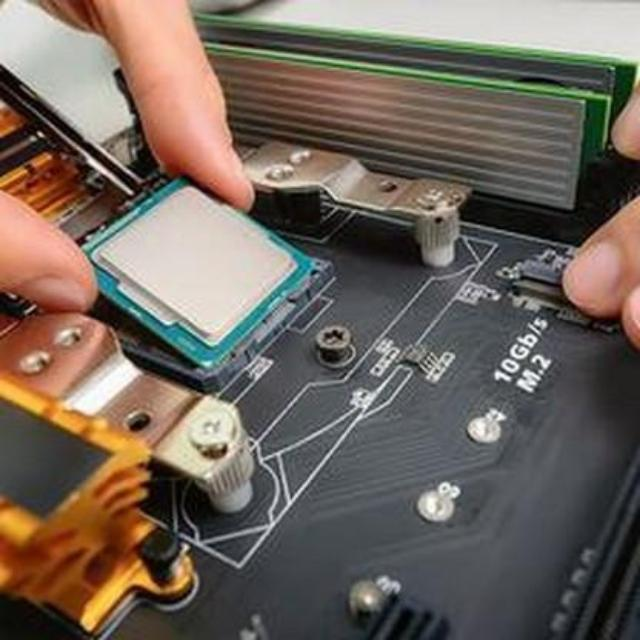CPU: (74, 170, 309, 362)
